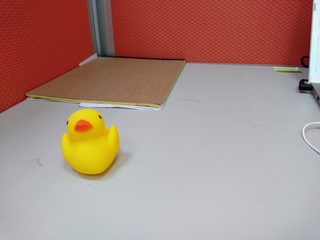duck: (52, 106, 124, 183)
